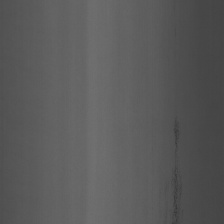inclusion: (163, 112, 189, 221)
